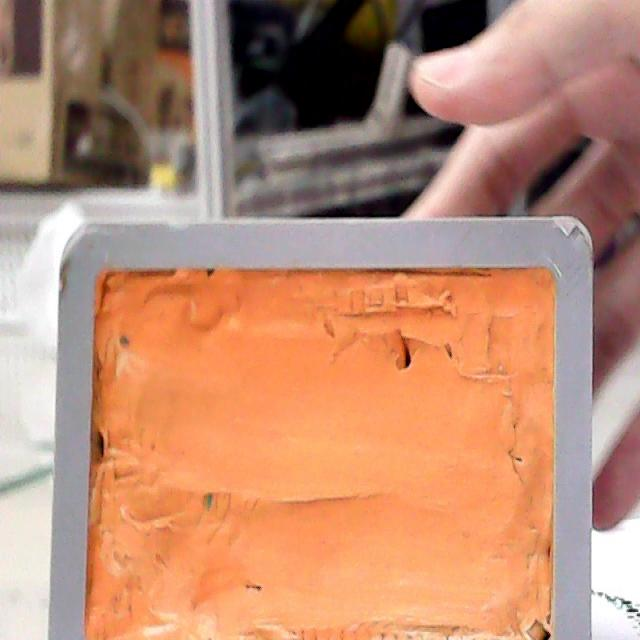block: (42, 209, 598, 640)
